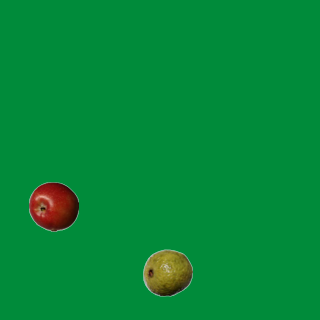Apple Braeburn: (28, 181, 78, 231)
Guava: (142, 247, 192, 297)
